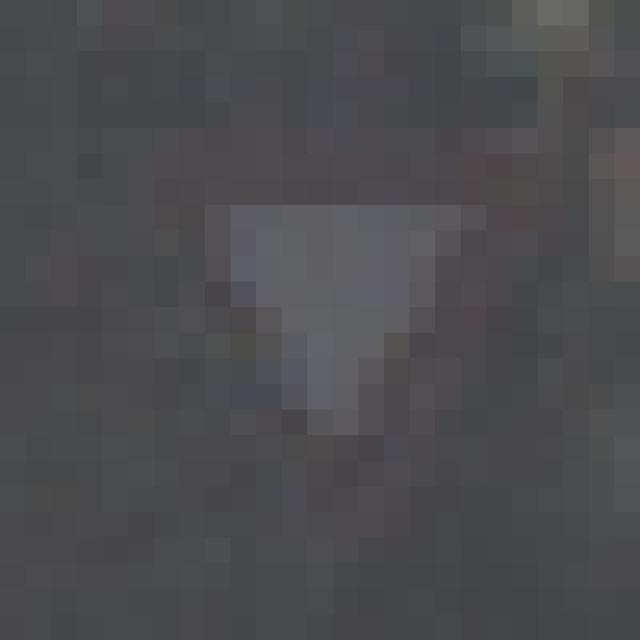Give Way: (129, 129, 513, 513)
